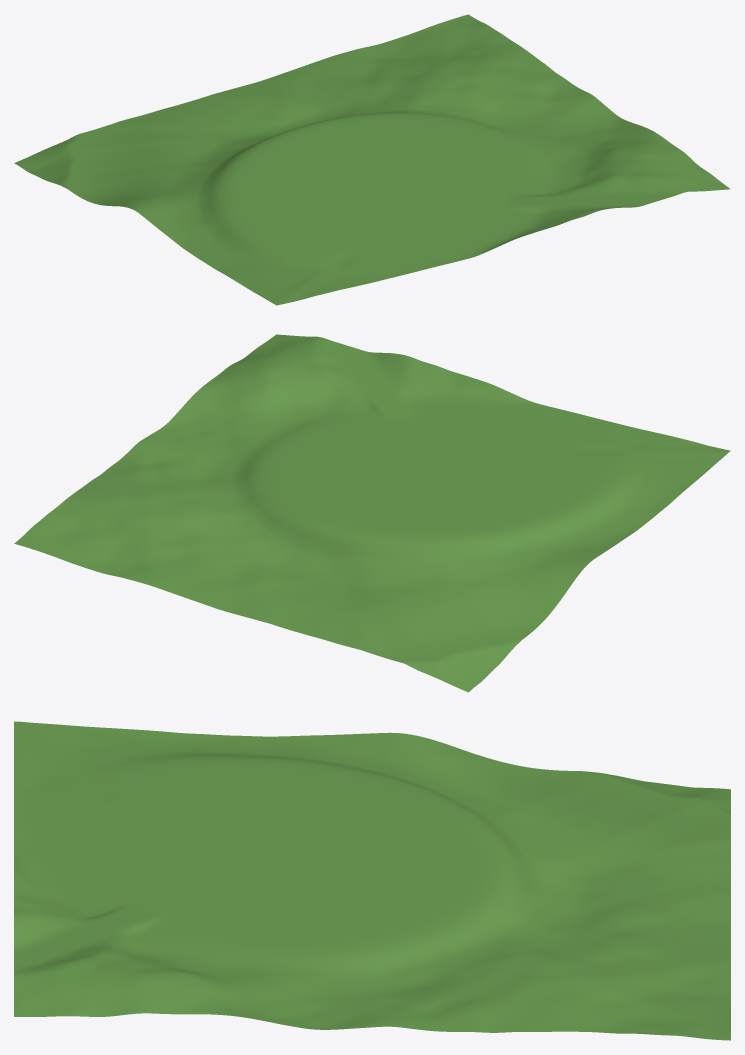
File: SM_Terrain_02_02.fbx
3 views of the same model, one above another, from view 1: azimuth 30°, elevation 25°; view 2: azimuth 150°, elevation 25°; view 3: azimuth 270°, elevation 25° (orthographic). The views are drawn at different scales.
Parts seen in each view (by area): view 1: SM_Terrain_02_02; view 2: SM_Terrain_02_02; view 3: SM_Terrain_02_02.
Part boxes in pixels (x1,y1,x2,y2): SM_Terrain_02_02: (14, 14, 730, 305); SM_Terrain_02_02: (14, 334, 730, 692); SM_Terrain_02_02: (14, 721, 730, 1040).
Size of the model in its own units: 384 by 53.07 by 384.
